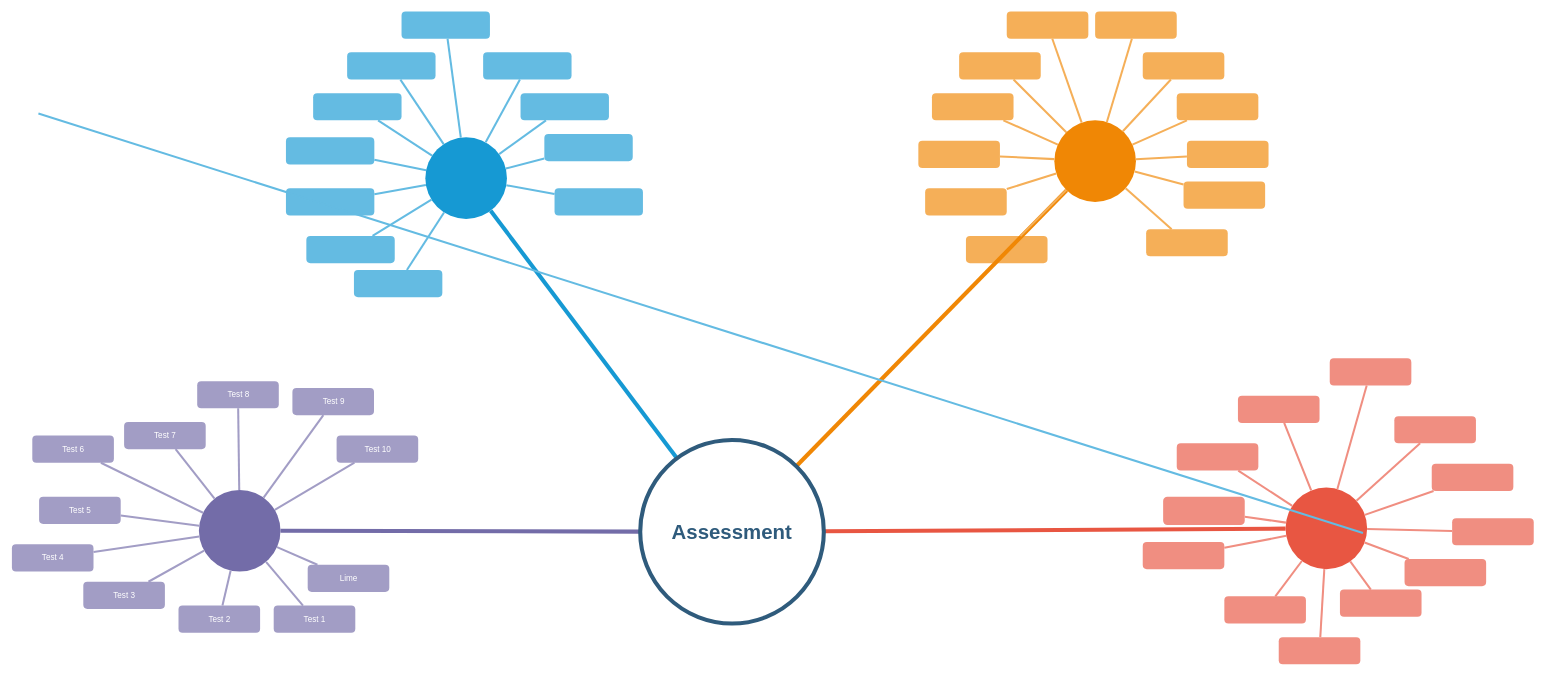
Image size: 1545x676. Some labels were removed from this diagram. The shapes that lost their labels are listed below. From the top down, each one's box as (x1, y1, x2, y2) in pixels, then its label:
(425, 137, 507, 219): Evaluation 2
(1054, 120, 1136, 202): Evaluation 3
(199, 490, 280, 571): Evaluation 1
(1285, 487, 1367, 569): Evaluation 4
